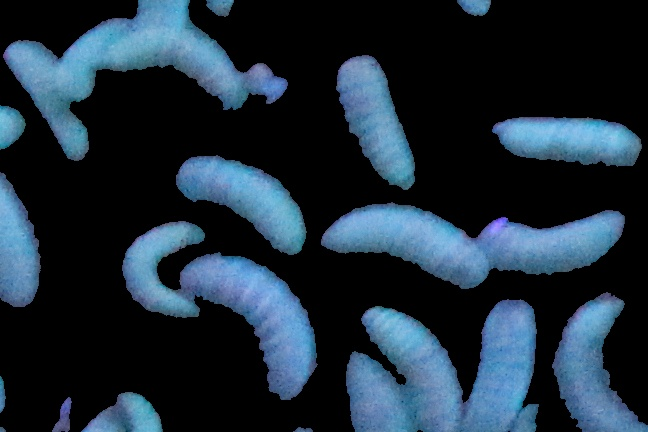dog: (358, 307, 468, 432), (342, 349, 418, 432)
larvae: (178, 254, 319, 400), (312, 212, 486, 301), (60, 16, 244, 98), (487, 197, 639, 283), (177, 156, 307, 253), (554, 294, 641, 432), (333, 53, 414, 194), (9, 36, 89, 160), (472, 294, 539, 432), (492, 113, 643, 171), (123, 219, 202, 321), (1, 172, 51, 312)
